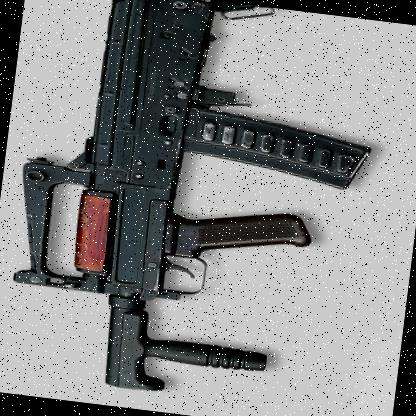rifle: (0, 0, 378, 409)
